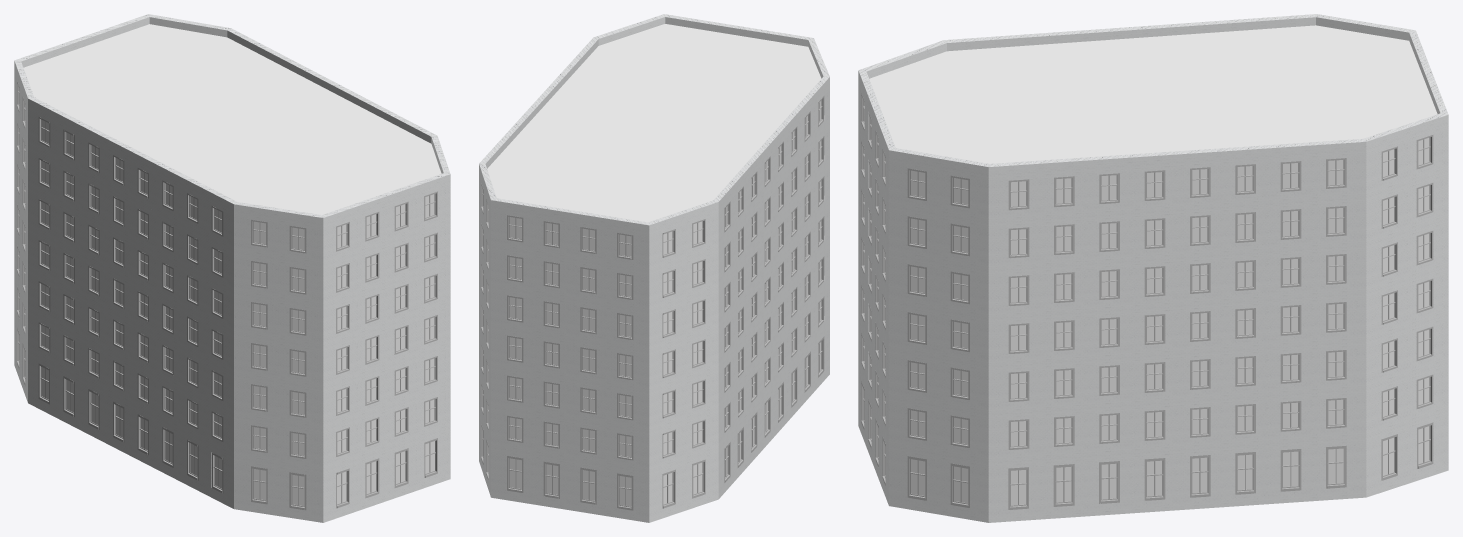
File: clohbpti102wh4p02q34urjcc_0.glb
3 views of the same model, side by side, from view 1: azimuth 30°, elevation 25°; view 2: azimuth 150°, elevation 25°; view 3: azimuth 270°, elevation 25° (orthographic). The views are drawn at different scales.
Parts seen in each view (by area): view 1: mesh_Brick, mesh_CityEnginePBRShader, mesh_Rim, mesh_Glass; view 2: mesh_Brick, mesh_CityEnginePBRShader, mesh_Rim, mesh_Glass; view 3: mesh_Brick, mesh_CityEnginePBRShader, mesh_Rim, mesh_Glass.
Boxes of the visible parts, x1,y1,x2,y2 form: mesh_Brick: [14, 14, 450, 522]; mesh_CityEnginePBRShader: [23, 24, 441, 214]; mesh_Rim: [17, 81, 437, 510]; mesh_Glass: [42, 120, 434, 506]; mesh_Brick: [479, 14, 829, 522]; mesh_CityEnginePBRShader: [487, 24, 821, 222]; mesh_Rim: [481, 96, 824, 510]; mesh_Glass: [510, 96, 824, 506]; mesh_Brick: [858, 14, 1448, 522]; mesh_CityEnginePBRShader: [869, 25, 1437, 163]; mesh_Rim: [861, 93, 1433, 509]; mesh_Glass: [864, 103, 1429, 505].
Bounding box in the file's own units: 24.19 × 26.2 × 39.39.
Materials: 4 (1 with a texture image).
